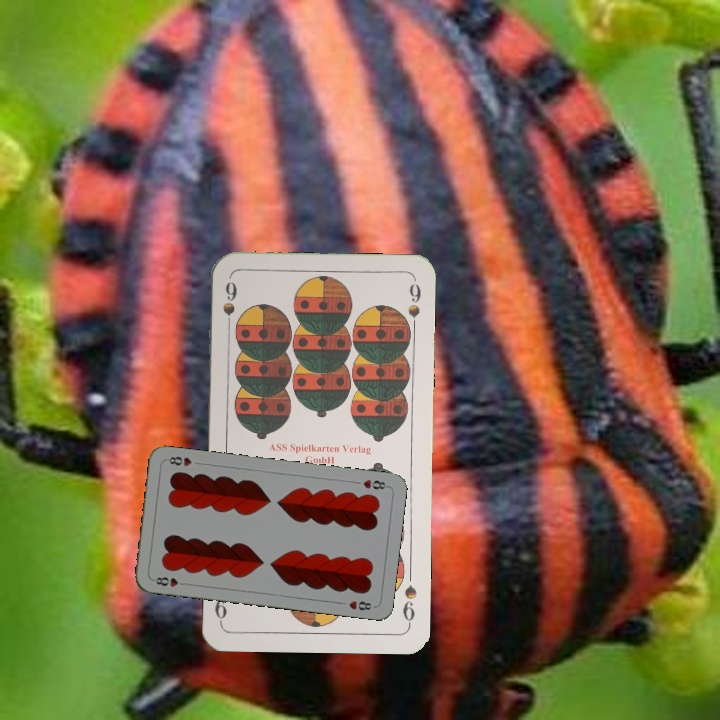H8: (149, 573, 189, 589), (359, 475, 391, 492)
S9: (219, 277, 239, 335), (398, 581, 419, 628)
